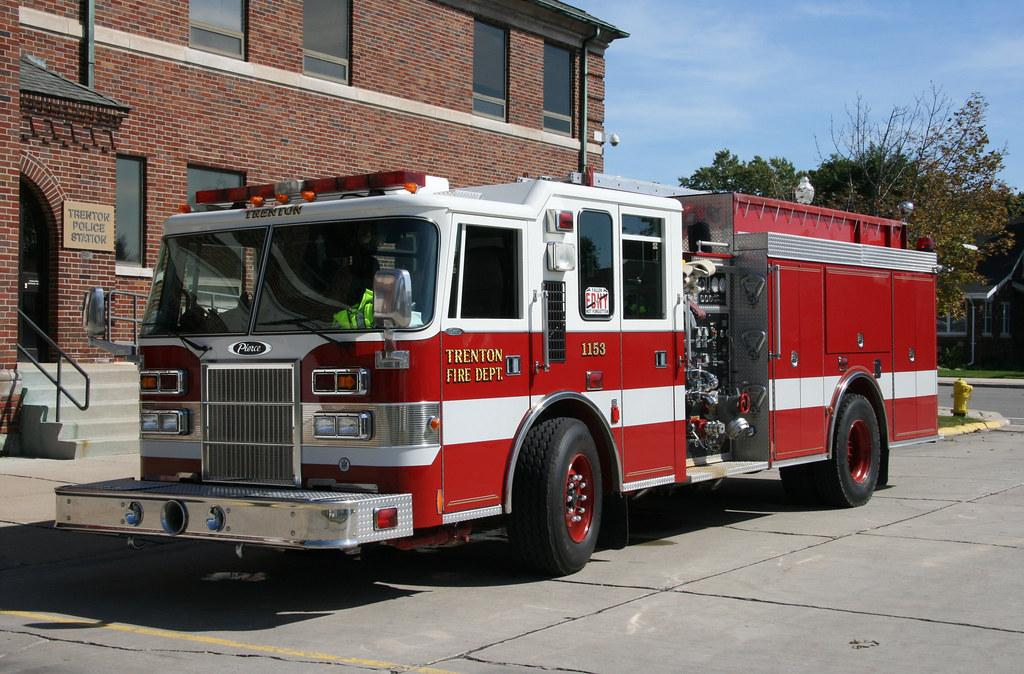Fire-engine: (53, 166, 942, 578)
